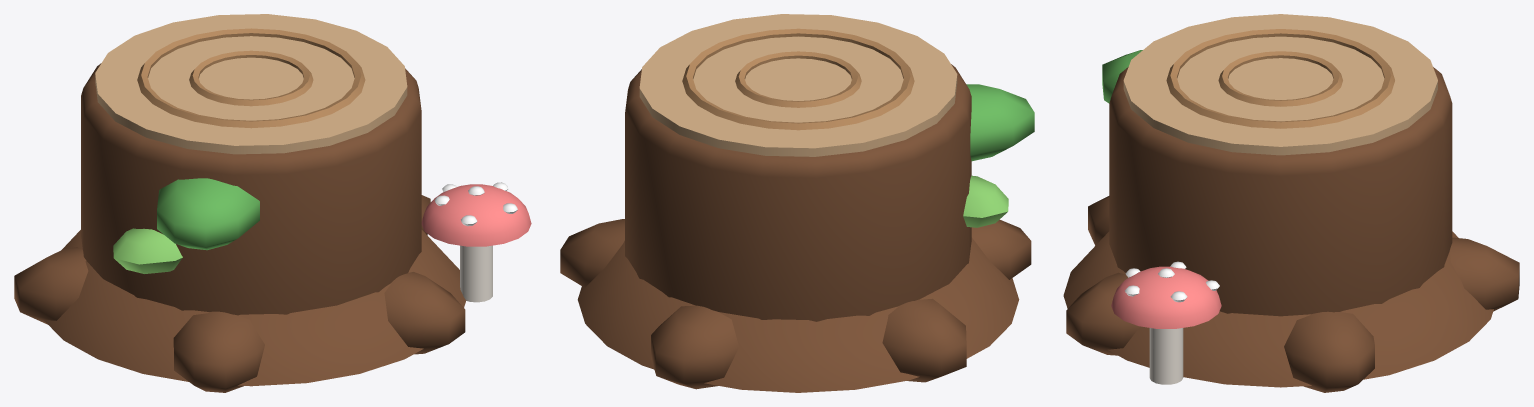
File: stump.glb
3 views of the same model, side by side, from view 1: azimuth 30°, elevation 25°; view 2: azimuth 150°, elevation 25°; view 3: azimuth 270°, elevation 25° (orthographic).
Parts seen in each view (by area): view 1: stump; view 2: stump; view 3: stump.
Boxes of the visible parts, x1,y1,x2,y2 form: stump: [14, 14, 531, 392]; stump: [560, 14, 1034, 392]; stump: [1063, 14, 1519, 392].
Size of the model in its own units: 0.8362 by 0.4615 by 0.7973.
